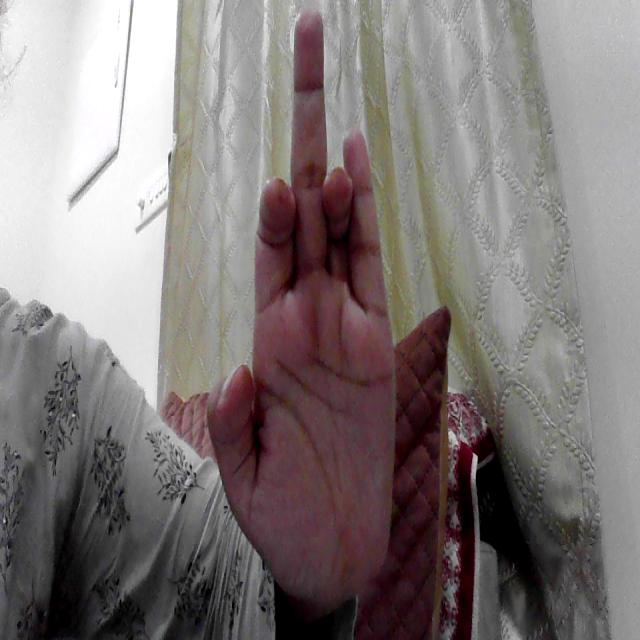Shukatunda: (203, 2, 425, 602)
